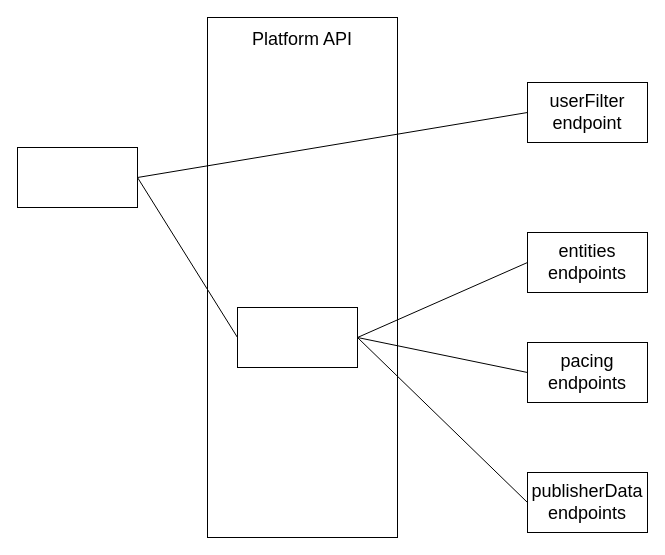
Some shapes in this 665 by 555 pixel diagram are drawn without their labels. The shapes that lost their labels are listed below. From the top down, each one's centre as x and y in pixels, then its label:
At point (77, 177): "UI".
At point (297, 337): "Graphql".
